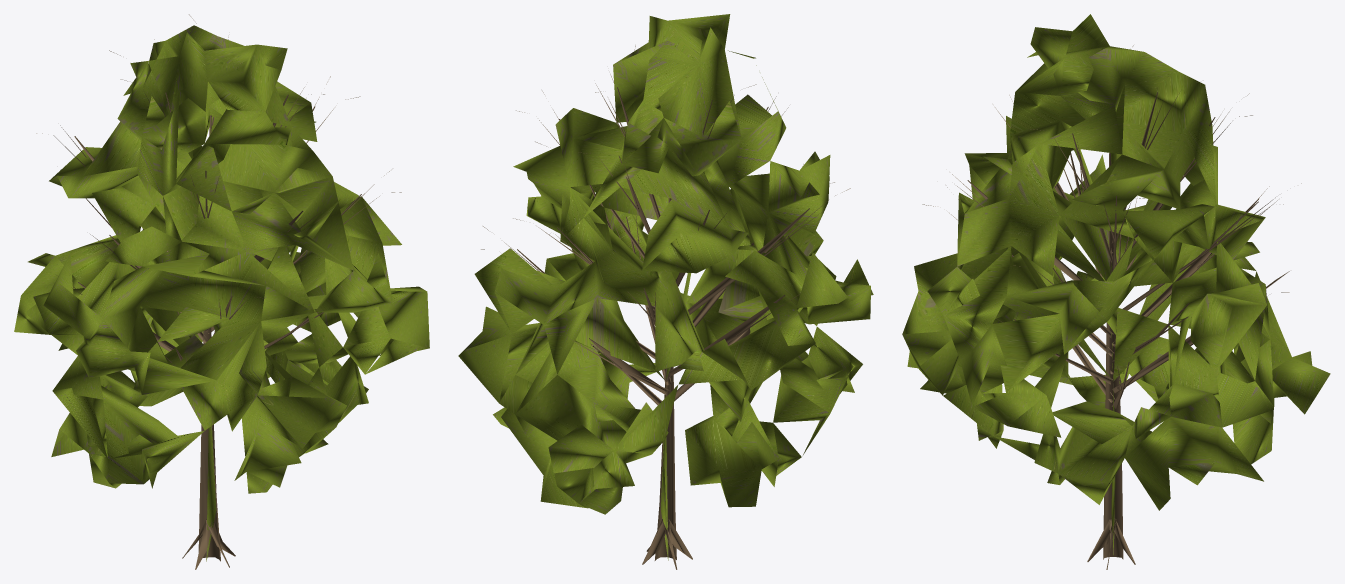
File: broad-canopy-a.glb
The picture shows the model from 3 angles, left to right: view 1: azimuth 30°, elevation 25°; view 2: azimuth 150°, elevation 25°; view 3: azimuth 270°, elevation 25°; orthographic projection. The views are drawn at different scales.
Bounding box in the file's own units: 0.644 × 0.9924 × 0.7256.
Materials: 2 (1 with a texture image).
